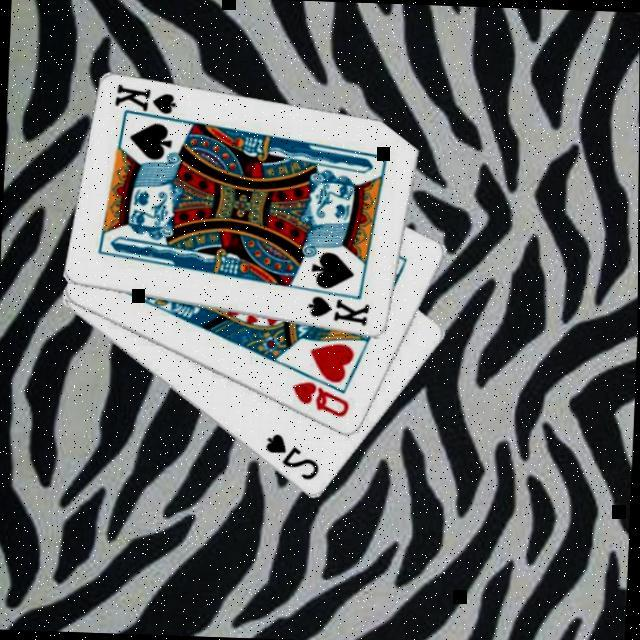2S: (263, 431, 325, 485)
KS: (113, 83, 185, 125), (306, 295, 375, 331)
QH: (290, 379, 355, 421)
